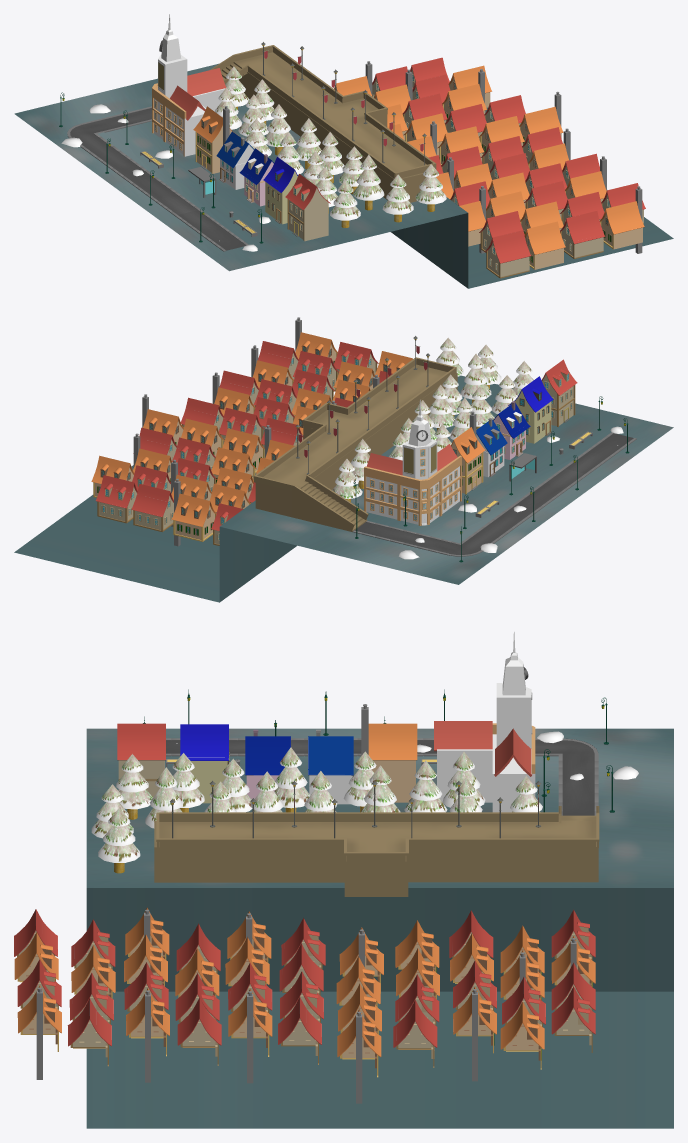
Rendered from Street.fbx.
The picture shows the model from 3 angles, top to bottom: view 1: azimuth 30°, elevation 25°; view 2: azimuth 150°, elevation 25°; view 3: azimuth 270°, elevation 25°; orthographic projection. The views are drawn at different scales.
Parts seen in each view (by area): view 1: city, Armrest, Tower, Sidewalk, house01.001, house01.038, house01.004, house01.041, house01.039, Armrest004, house01.040, house01.003 (+53 smaller); view 2: city, Armrest, Tower, Sidewalk, house01.011, house01.003, house01.012, Armrest004, house01.014, house01.001, house01.004, Armrest005 (+48 smaller); view 3: city, Armrest, Tower, Sidewalk, Armrest004, Armrest003, house01.004, house01.003, house01.001, house01.002, house01.030, house01 (+57 smaller).
Boxes of the visible parts, bbox=[...] form: city: bbox=[14, 63, 673, 288]; Armrest: bbox=[221, 52, 426, 202]; Tower: bbox=[152, 14, 226, 156]; Sidewalk: bbox=[67, 106, 248, 251]; house01.001: bbox=[285, 174, 330, 241]; house01.038: bbox=[599, 186, 644, 253]; house01.004: bbox=[193, 106, 238, 173]; house01.041: bbox=[484, 230, 530, 278]; house01.039: bbox=[560, 211, 604, 259]; Armrest004: bbox=[272, 45, 434, 164]; house01.040: bbox=[524, 221, 565, 269]; house01.003: bbox=[263, 156, 297, 224]; city: bbox=[14, 375, 673, 602]; Armrest: bbox=[255, 364, 457, 531]; Tower: bbox=[364, 400, 461, 525]; Sidewalk: bbox=[352, 432, 636, 556]; house01.011: bbox=[171, 478, 216, 546]; house01.003: bbox=[508, 376, 553, 443]; house01.012: bbox=[131, 483, 173, 531]; Armrest004: bbox=[255, 358, 416, 476]; house01.014: bbox=[95, 475, 137, 523]; house01.001: bbox=[541, 359, 577, 426]; house01.004: bbox=[451, 411, 485, 494]; Armrest005: bbox=[292, 485, 354, 530]; city: bbox=[86, 728, 673, 1128]; Armrest: bbox=[154, 815, 598, 896]; Tower: bbox=[434, 631, 535, 812]; Sidewalk: bbox=[166, 738, 598, 815]; Armrest004: bbox=[159, 838, 596, 861]; Armrest003: bbox=[159, 812, 558, 821]; house01.004: bbox=[361, 704, 417, 802]; house01.003: bbox=[180, 724, 229, 803]; house01.001: bbox=[117, 723, 165, 797]; house01.002: bbox=[308, 729, 353, 804]; house01.030: bbox=[337, 1009, 381, 1103]; house01: bbox=[245, 729, 290, 799].
Size of the model in its own units: 5266 by 2203 by 4960.
Materials: 11 (11 with a texture image).
